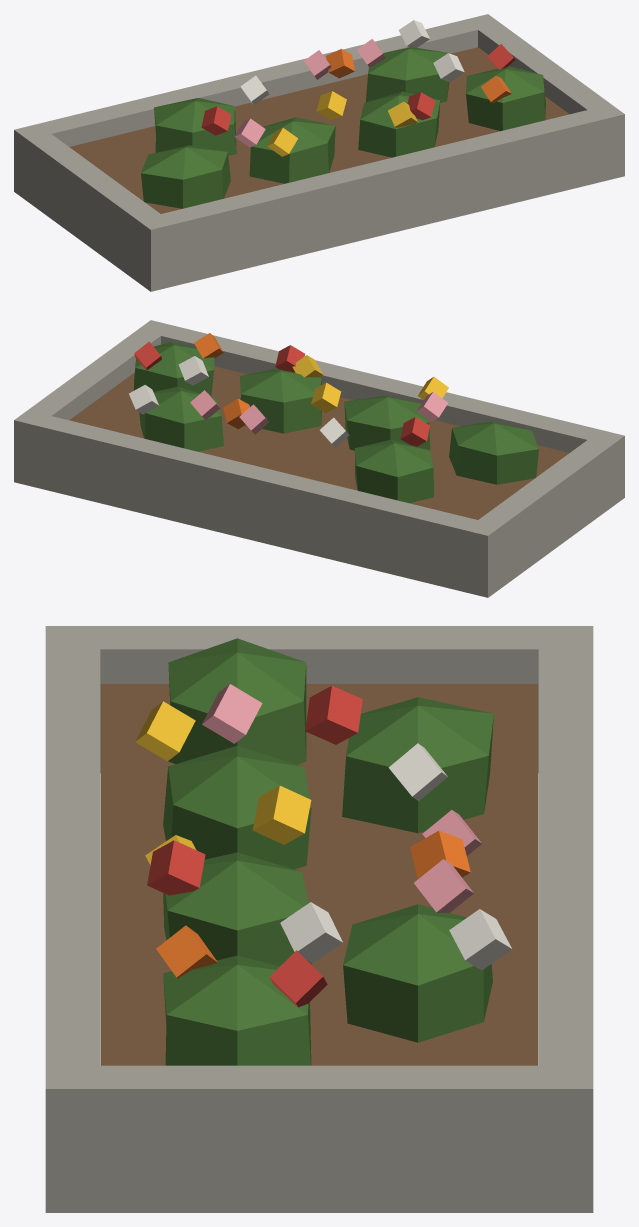
Rendered from flower_bed.glb.
3 renders of one model, top to bottom at view 1: azimuth 30°, elevation 25°; view 2: azimuth 150°, elevation 25°; view 3: azimuth 270°, elevation 25°, orthographic. The views are drawn at different scales.
Visible parts, largest first — view 1: flower_bed; view 2: flower_bed; view 3: flower_bed.
Part boxes in pixels (box(x1,y1,x2,y2)): flower_bed: box(14, 14, 624, 291); flower_bed: box(14, 320, 624, 597); flower_bed: box(45, 626, 593, 1212).
Bounding box in the file's own units: 2 × 0.4203 × 1.
